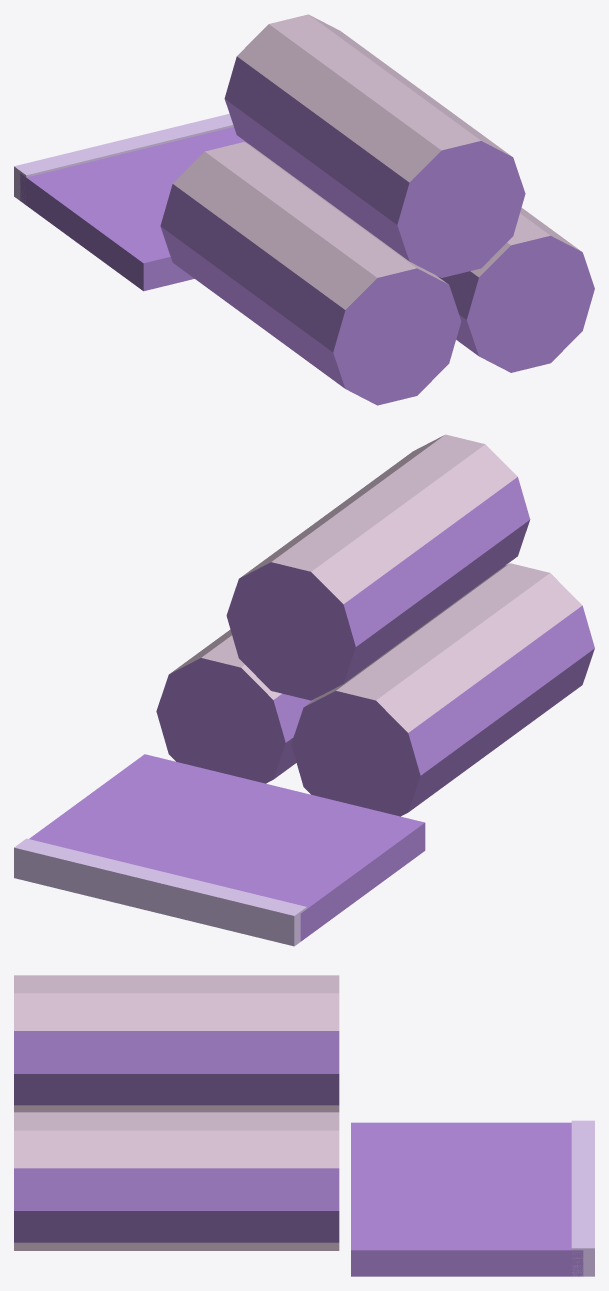
Rendered from silk-fabric.glb.
3 views of the same model, one above another, from view 1: azimuth 30°, elevation 25°; view 2: azimuth 150°, elevation 25°; view 3: azimuth 270°, elevation 25° (orthographic). The views are drawn at different scales.
Parts seen in each view (by area): view 1: silk-fabric; view 2: silk-fabric; view 3: silk-fabric.
Part boxes in pixels (x1,y1,x2,y2): silk-fabric: [14, 14, 594, 405]; silk-fabric: [14, 434, 594, 946]; silk-fabric: [14, 975, 594, 1276].
Bounding box in the file's own units: 0.26 × 0.2171 × 0.5.
1 material, 1 textured.
